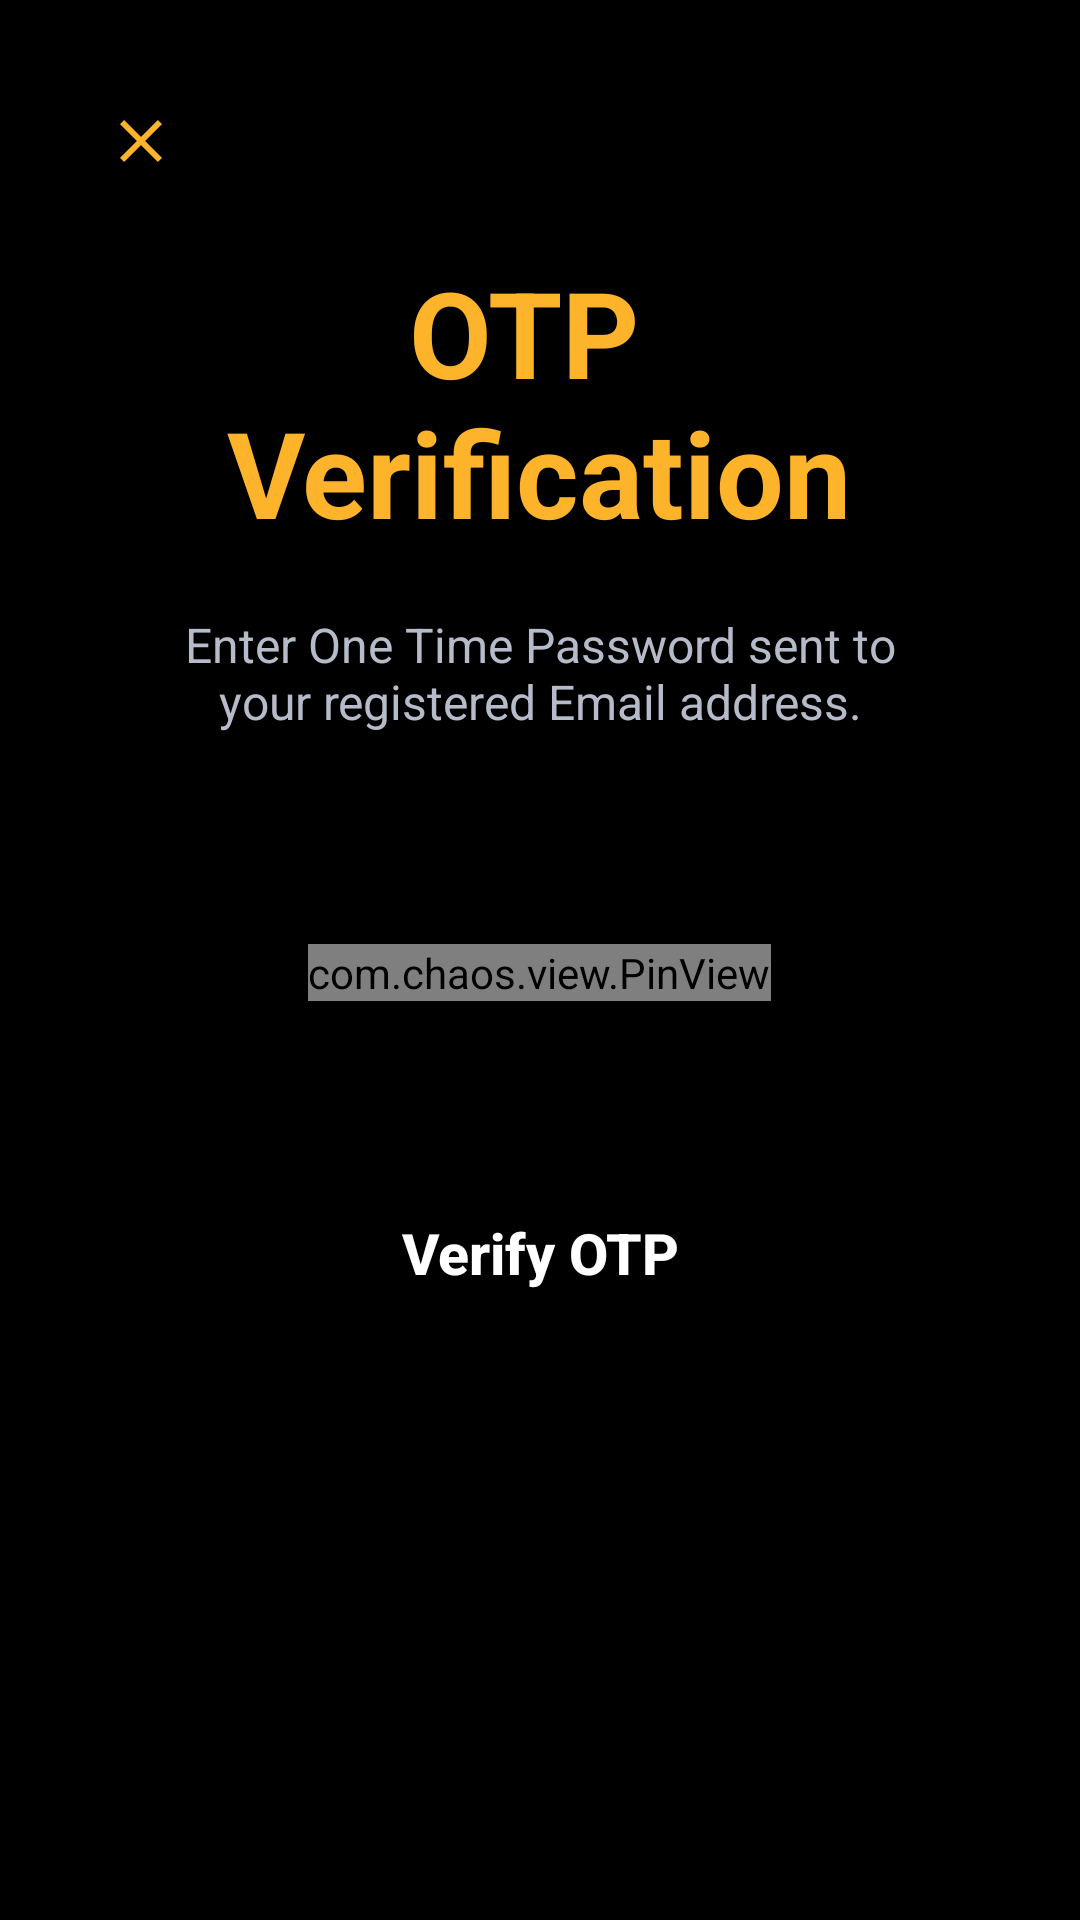

Named icons in this screenshot (1080 × 1920) and their bounding boxes, (x1, y1, x2, y2):
close: (120, 120, 162, 162)
